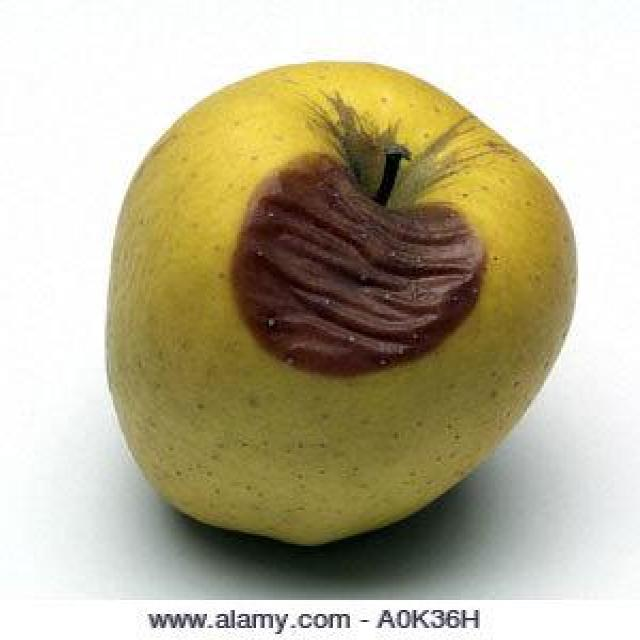Rotten: (96, 55, 578, 552)
